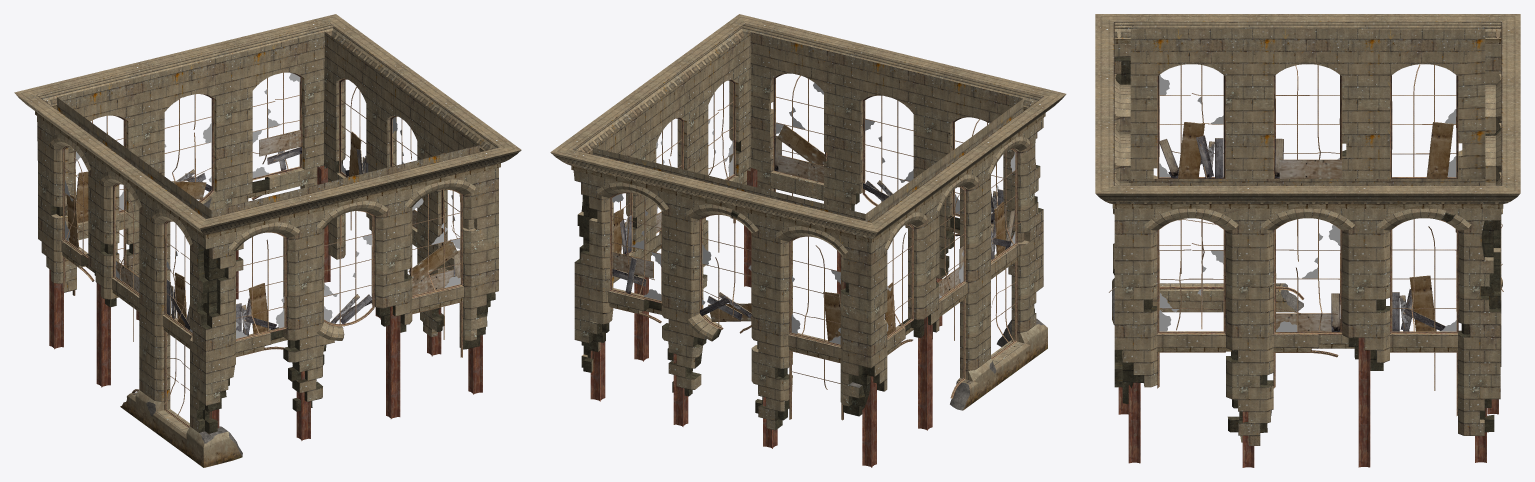
The model's file is Build1_el1.fbx.
3 renders of one model, left to right at view 1: azimuth 30°, elevation 25°; view 2: azimuth 150°, elevation 25°; view 3: azimuth 270°, elevation 25°, orthographic. The views are drawn at different scales.
Visible parts, largest first — view 1: 0_floor; view 2: 0_floor; view 3: 0_floor.
Part boxes in pixels (left/top/right/bottom): 0_floor: left=14, top=14, right=521, bottom=467; 0_floor: left=550, top=14, right=1066, bottom=467; 0_floor: left=1095, top=14, right=1520, bottom=467.
Bounding box in the file's own units: 15.55 × 11.43 × 15.55.
